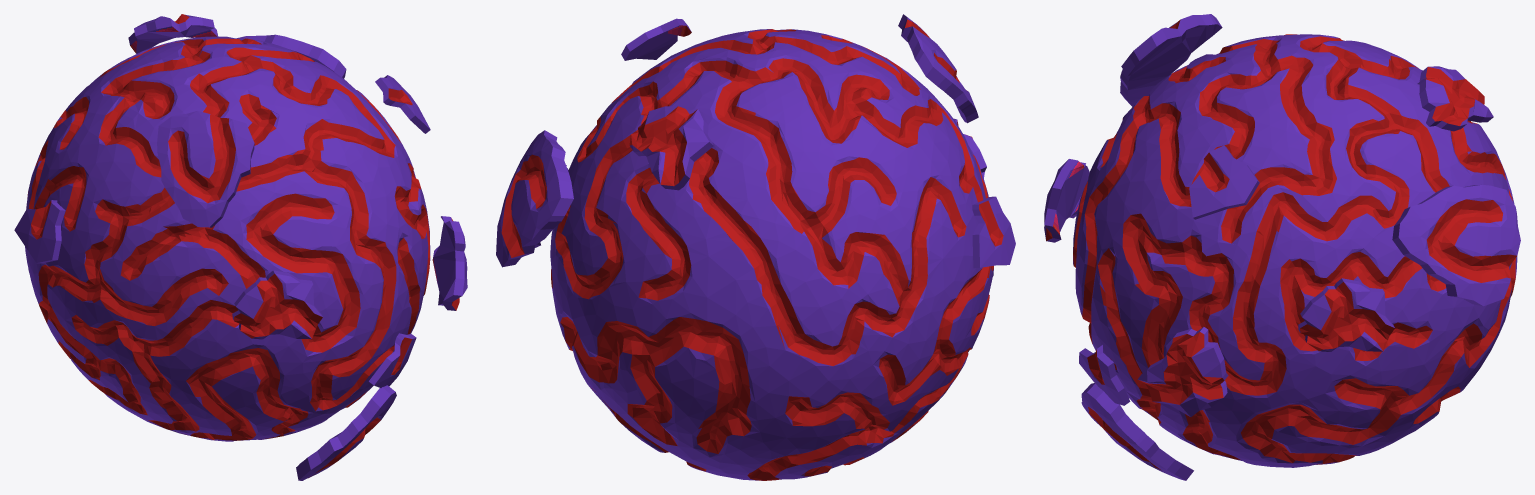
File: Planet_50.glb
3 renders of one model, left to right at view 1: azimuth 30°, elevation 25°; view 2: azimuth 150°, elevation 25°; view 3: azimuth 270°, elevation 25°, orthographic. The views are drawn at different scales.
Parts seen in each view (by area): view 1: Planet_50; view 2: Planet_50; view 3: Planet_50.
Boxes of the visible parts, x1,y1,x2,y2 form: Planet_50: (14, 14, 467, 480); Planet_50: (496, 14, 1015, 480); Planet_50: (1044, 14, 1520, 480).
Bounding box in the file's own units: 21.96 × 20.29 × 21.66.
1 material, 1 textured.
